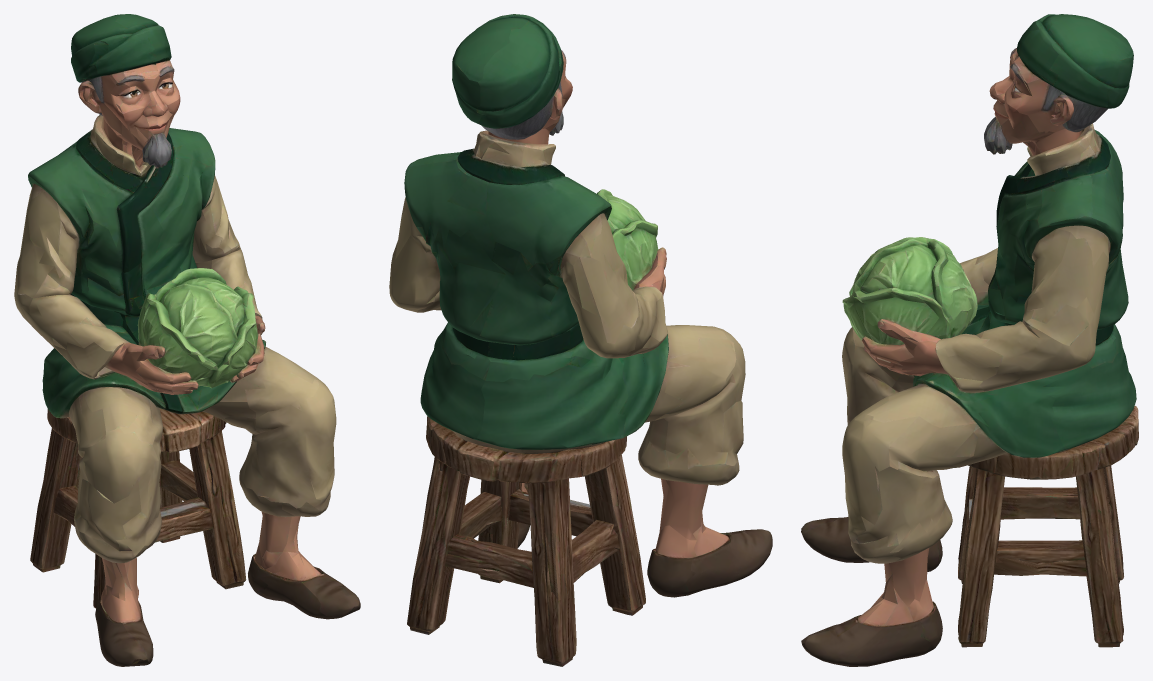
Rendered from chou.glb.
3 views of the same model, side by side, from view 1: azimuth 30°, elevation 25°; view 2: azimuth 150°, elevation 25°; view 3: azimuth 270°, elevation 25° (orthographic). The views are drawn at different scales.
Visible parts, largest first — view 1: Mesh_0; view 2: Mesh_0; view 3: Mesh_0.
Part boxes in pixels (left/top/right/bottom): Mesh_0: left=14, top=14, right=360, bottom=666; Mesh_0: left=389, top=14, right=772, bottom=666; Mesh_0: left=801, top=14, right=1138, bottom=666.
Bounding box in the file's own units: 0.8969 × 1.9 × 0.9847.
Materials: 1 (1 with a texture image).
